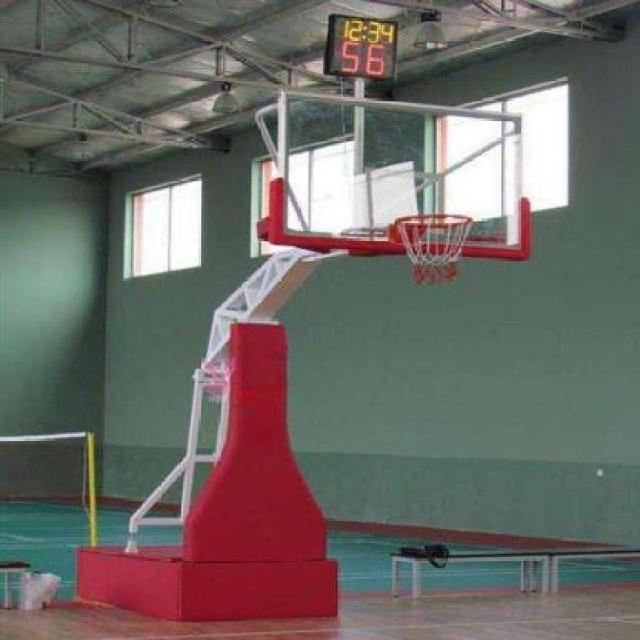rim: (391, 212, 473, 284)
